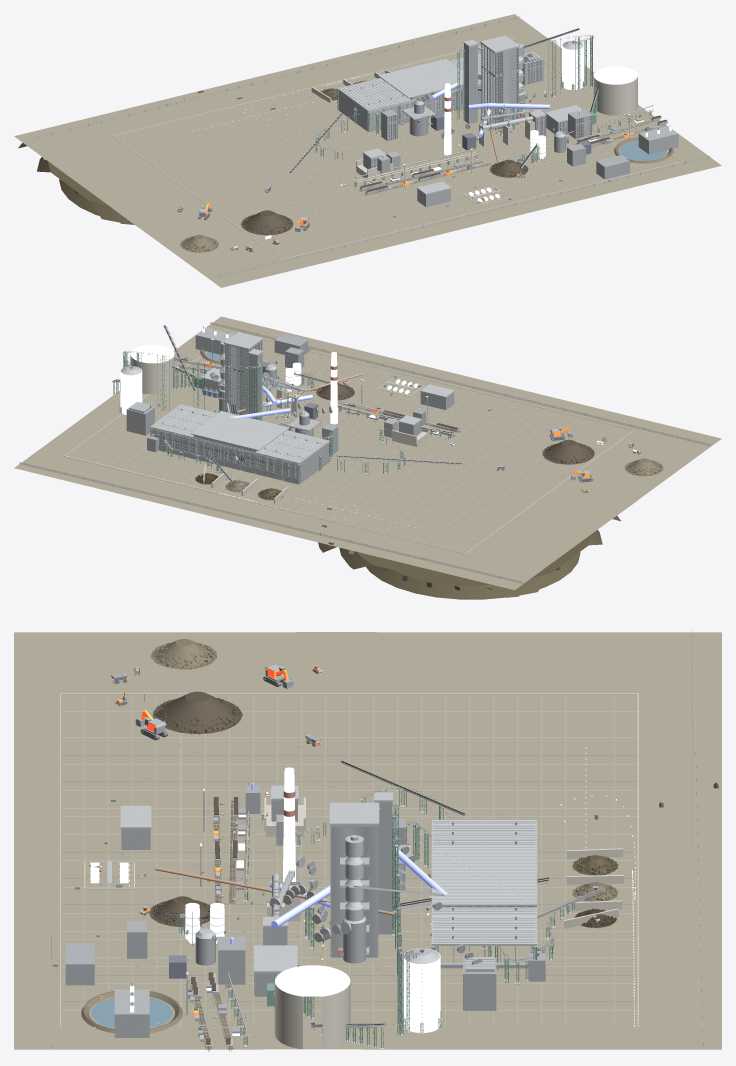
File: cementplant.glb
3 renders of one model, top to bottom at view 1: azimuth 30°, elevation 25°; view 2: azimuth 150°, elevation 25°; view 3: azimuth 270°, elevation 25°, orthographic. The views are drawn at different scales.
Visible parts, largest first — view 1: structure/mat_8b8166_59, structure/seam, structure/steelD, structure/roof, structure/clad, structure/concrete, galv/galv, structure/green, fence/mesh, structure/silo, structure/ore, structure/dirt (+8 smaller); view 2: structure/mat_8b8166_59, structure/seam, structure/roof, structure/steelD, structure/clad, structure/dirt, structure/concrete, structure/green, galv/galv, fence/mesh, structure/silo, structure/ore (+6 smaller); view 3: structure/mat_8b8166_59, structure/roof, structure/seam, structure/steelD, structure/concrete, structure/clad, structure/silo, galv/galv, structure/green, structure/ore, structure/waste, structure/gray (+6 smaller).
Boxes of the visible parts, bbox=[...] form: structure/mat_8b8166_59: bbox=[14, 14, 721, 287]; structure/seam: bbox=[121, 44, 674, 256]; structure/steelD: bbox=[290, 29, 653, 192]; structure/roof: bbox=[337, 35, 582, 197]; structure/clad: bbox=[338, 44, 678, 207]; structure/concrete: bbox=[112, 38, 682, 259]; galv/galv: bbox=[290, 28, 670, 198]; structure/green: bbox=[315, 36, 651, 187]; fence/mesh: bbox=[23, 16, 710, 279]; structure/silo: bbox=[370, 40, 671, 183]; structure/ore: bbox=[75, 90, 666, 235]; structure/dirt: bbox=[18, 88, 338, 224]; structure/mat_8b8166_59: bbox=[14, 316, 721, 590]; structure/seam: bbox=[72, 341, 625, 550]; structure/roof: bbox=[150, 332, 454, 463]; structure/steelD: bbox=[112, 326, 460, 483]; structure/clad: bbox=[151, 327, 454, 483]; structure/dirt: bbox=[258, 488, 620, 599]; structure/concrete: bbox=[64, 332, 634, 554]; structure/green: bbox=[113, 353, 450, 484]; galv/galv: bbox=[112, 325, 460, 484]; fence/mesh: bbox=[19, 322, 710, 583]; structure/silo: bbox=[120, 328, 438, 433]; structure/ore: bbox=[316, 382, 594, 590]; structure/mat_8b8166_59: bbox=[14, 632, 721, 1049]; structure/roof: bbox=[107, 785, 536, 973]; structure/seam: bbox=[62, 694, 636, 1026]; structure/steelD: bbox=[65, 762, 606, 1040]; structure/concrete: bbox=[60, 693, 638, 1049]; structure/clad: bbox=[114, 814, 536, 1037]; structure/silo: bbox=[130, 814, 440, 1035]; galv/galv: bbox=[131, 761, 604, 1048]; structure/green: bbox=[179, 789, 579, 1048]; structure/ore: bbox=[149, 691, 718, 1044]; structure/waste: bbox=[81, 639, 617, 1049]; structure/gray: bbox=[190, 797, 494, 1045].
Bounding box in the file's own units: 681 × 166 × 486.
57 materials, 14 textured.
